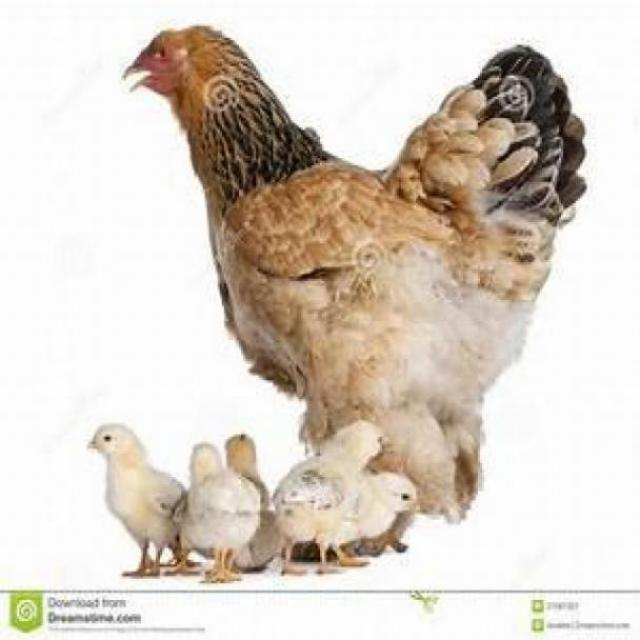Chicken: (124, 26, 587, 562), (269, 421, 386, 577), (87, 421, 190, 579), (190, 444, 262, 586), (222, 432, 284, 574), (331, 472, 422, 567)
